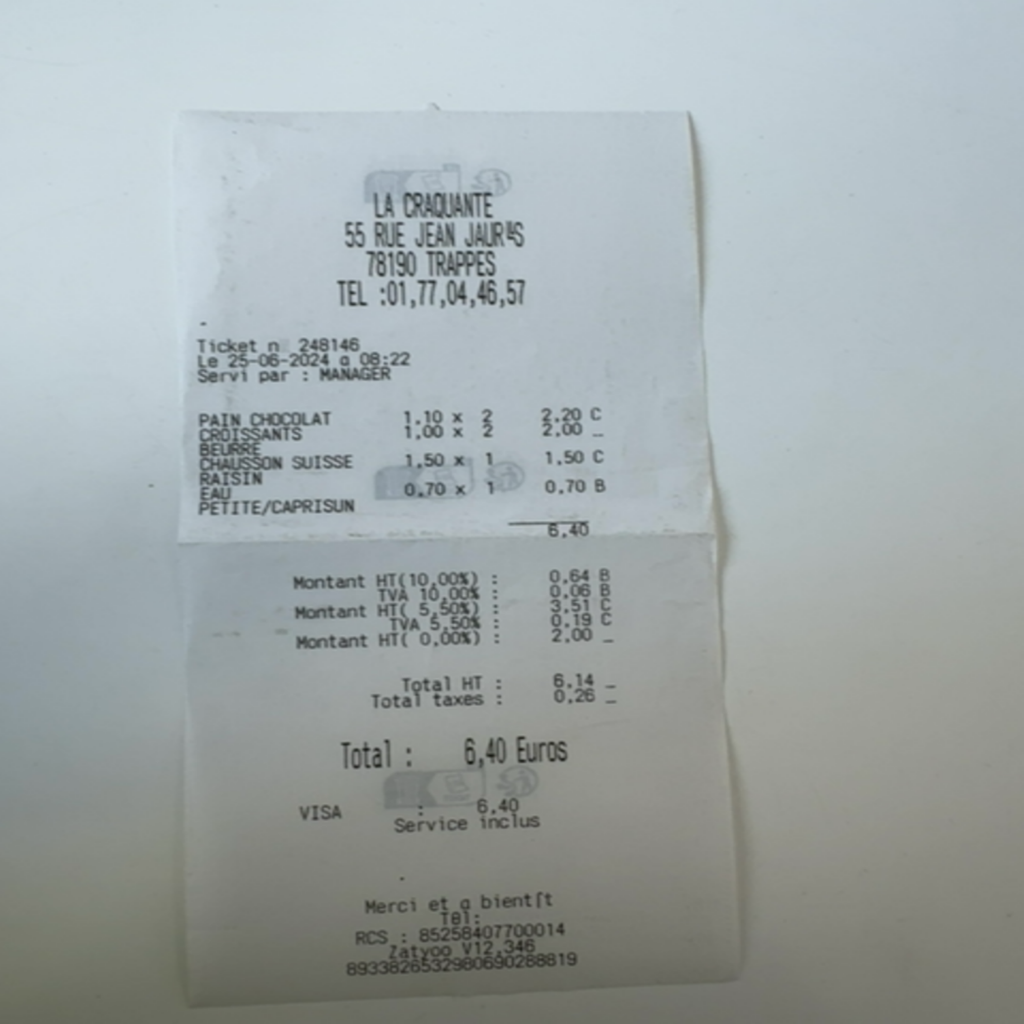recipt: (181, 117, 739, 1003)
